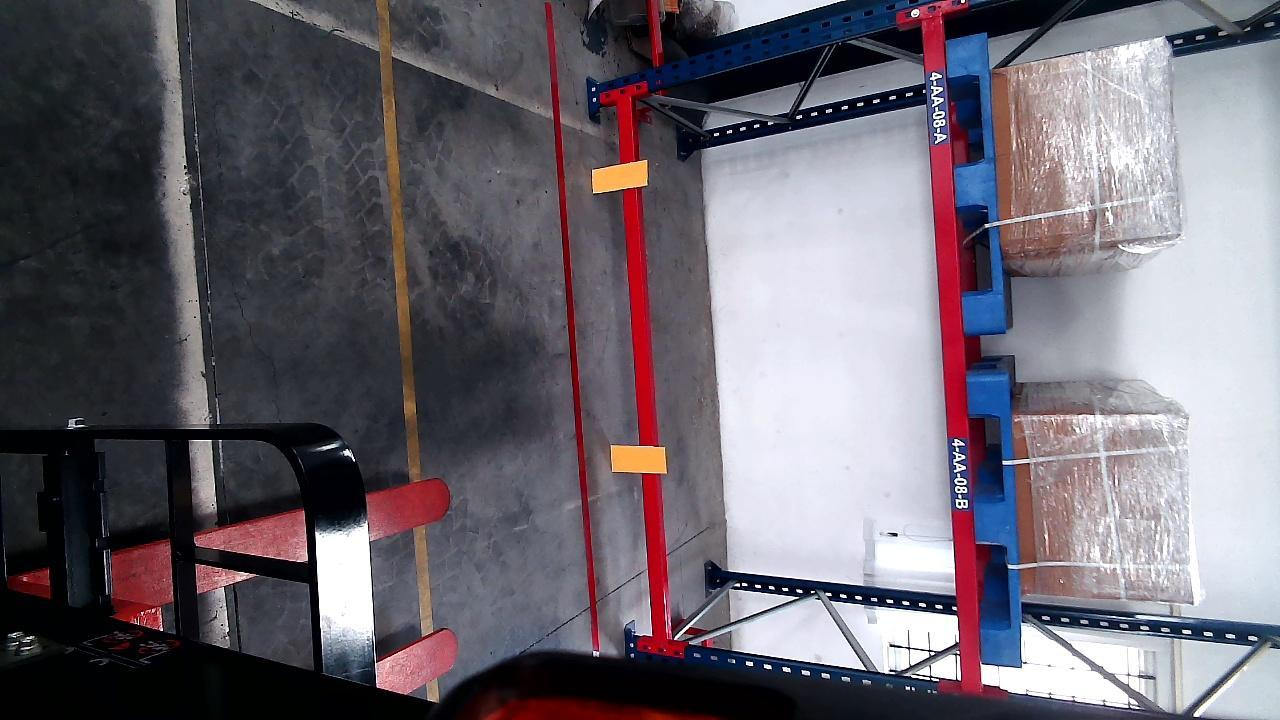red_line: (544, 7, 601, 651)
yellow_line: (373, 0, 437, 707)
